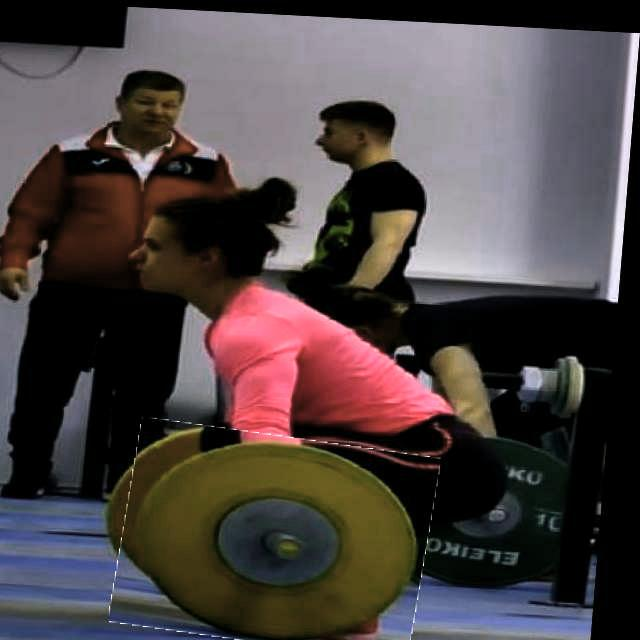barbell: (123, 422, 445, 640)
